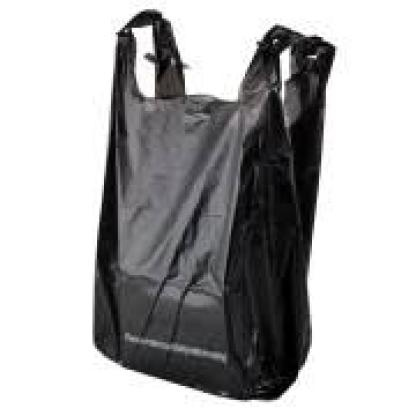trash: (94, 10, 334, 397)
